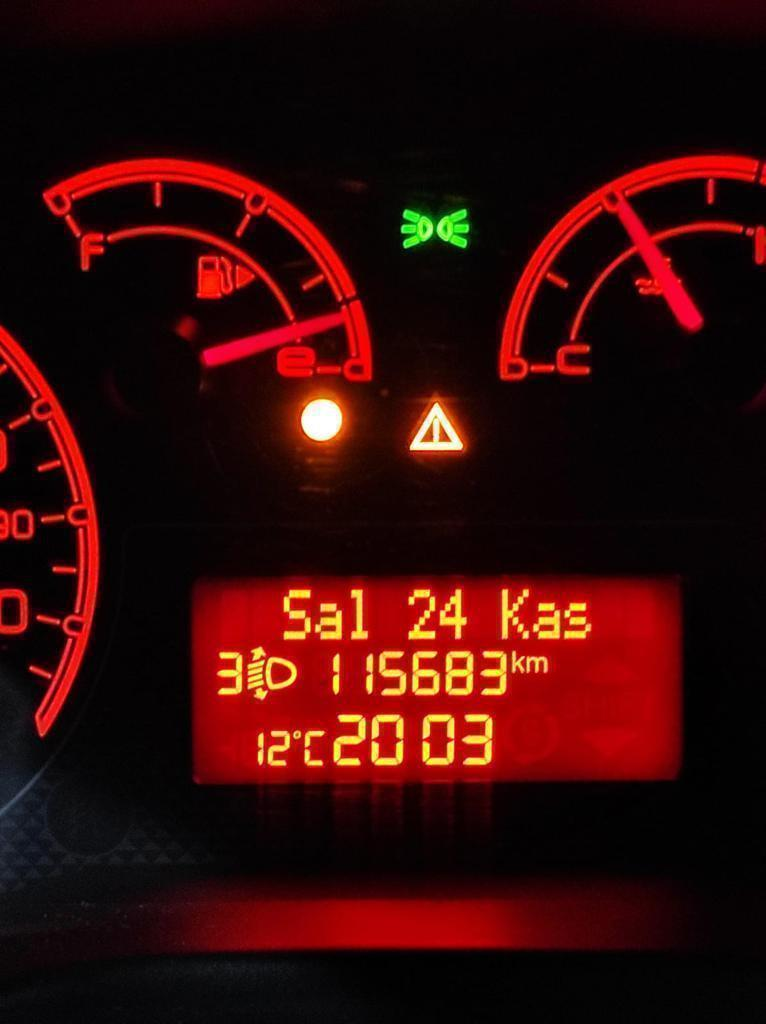0: (371, 713, 405, 766), (421, 714, 455, 765)
1: (330, 652, 342, 695), (363, 651, 374, 696), (256, 730, 265, 766)
2: (331, 713, 367, 766), (406, 587, 437, 640), (267, 729, 291, 766)
3: (461, 713, 494, 766), (479, 649, 509, 695), (215, 650, 244, 696)
4: (438, 588, 468, 640)
5: (378, 649, 408, 697)
6: (410, 650, 442, 696)
8: (444, 650, 475, 695)
X: (501, 587, 531, 640), (281, 589, 311, 640), (562, 602, 591, 640), (314, 602, 343, 640), (532, 602, 560, 640), (350, 587, 369, 640), (302, 728, 325, 767), (526, 655, 548, 674), (511, 650, 526, 673)
odometer: (187, 570, 689, 789)
